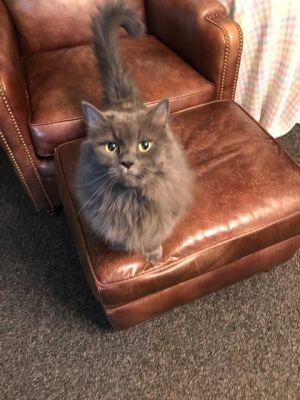rblue: (72, 92, 183, 199)
